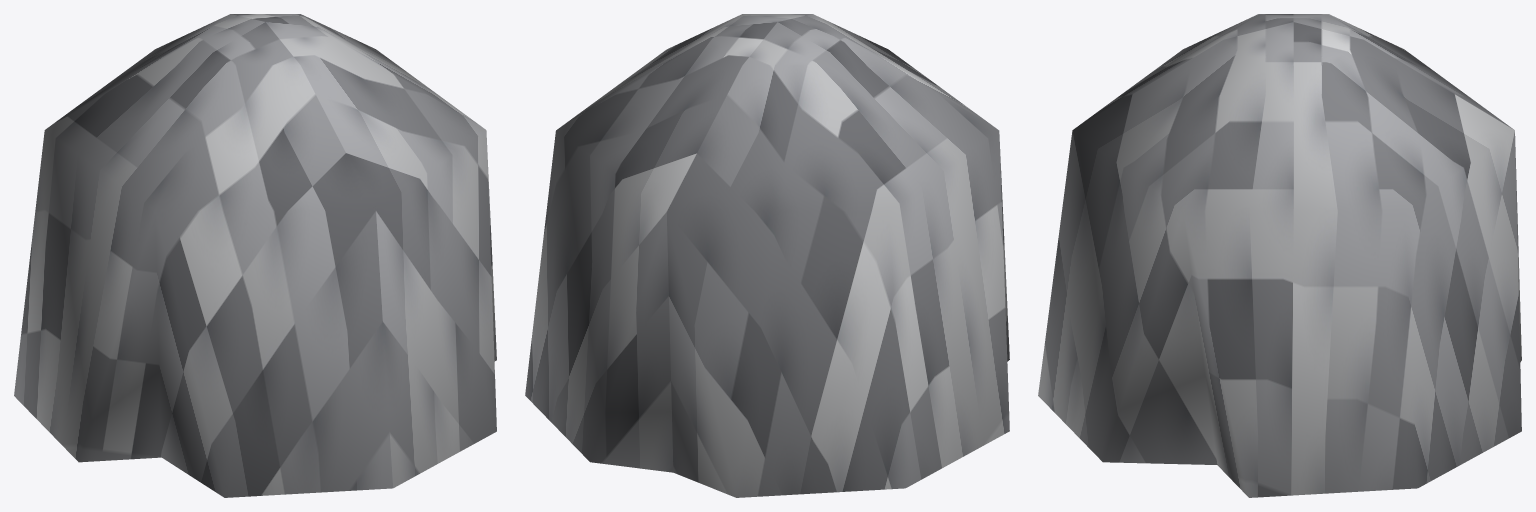
File: Seed boss.fbx
3 views of the same model, side by side, from view 1: azimuth 30°, elevation 25°; view 2: azimuth 150°, elevation 25°; view 3: azimuth 270°, elevation 25° (orthographic).
Parts seen in each view (by area): view 1: pDisc1; view 2: pDisc1; view 3: pDisc1.
Boxes of the visible parts, bbox=[...] form: pDisc1: bbox=[14, 14, 496, 497]; pDisc1: bbox=[525, 14, 1009, 497]; pDisc1: bbox=[1038, 14, 1521, 497].
Size of the model in its own units: 729 by 686 by 729.
3 materials, 1 textured.
